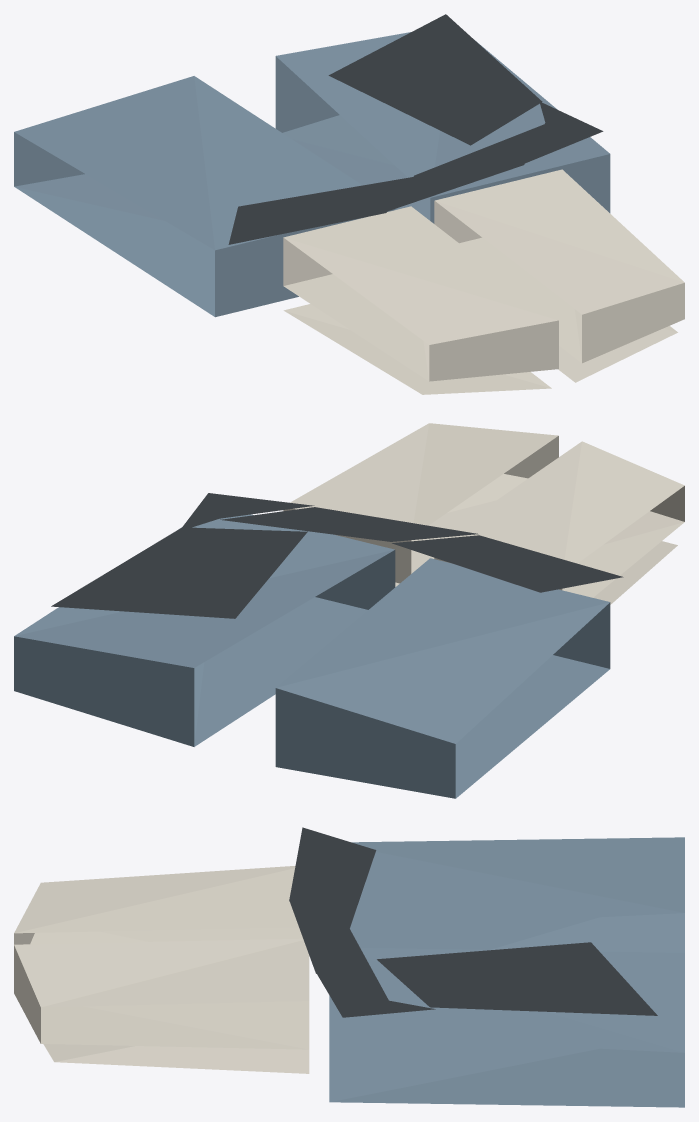
File: aster-fold-culotte.obj
3 views of the same model, one above another, from view 1: azimuth 30°, elevation 25°; view 2: azimuth 150°, elevation 25°; view 3: azimuth 270°, elevation 25° (orthographic).
Visible parts, largest first — view 1: top_front_L, culotte_front_L, top_front_R, culotte_back_L, pleat_flap_R, culotte_front_R, culotte_back_R, fold_yoke_A, top_back_L, fold_yoke_B, fold_yoke_C, top_back_R; view 2: culotte_front_L, culotte_back_R, culotte_back_L, top_front_L, top_front_R, culotte_front_R, pleat_flap_R, fold_yoke_A, fold_yoke_B, fold_yoke_C, top_back_L; view 3: top_front_R, culotte_front_L, culotte_back_R, top_front_L, culotte_front_R, pleat_flap_R, culotte_back_L, top_back_R, fold_yoke_A, fold_yoke_B, fold_yoke_C.
Boxes of the visible parts, x1=… form: top_front_L: x1=283, y1=206, x2=558, y2=381; culotte_front_L: x1=14, y1=76, x2=362, y2=250; top_front_R: x1=434, y1=169, x2=684, y2=363; culotte_back_L: x1=14, y1=132, x2=395, y2=317; pleat_flap_R: x1=328, y1=14, x2=542, y2=145; culotte_front_R: x1=276, y1=32, x2=609, y2=197; culotte_back_R: x1=275, y1=56, x2=610, y2=223; fold_yoke_A: x1=228, y1=177, x2=412, y2=244; top_back_L: x1=283, y1=304, x2=551, y2=394; fold_yoke_B: x1=387, y1=124, x2=544, y2=211; fold_yoke_C: x1=524, y1=102, x2=603, y2=163; top_back_R: x1=558, y1=326, x2=677, y2=382; culotte_front_L: x1=276, y1=558, x2=609, y2=743; culotte_back_R: x1=14, y1=550, x2=395, y2=746; culotte_back_L: x1=275, y1=602, x2=610, y2=798; top_front_L: x1=434, y1=441, x2=684, y2=597; top_front_R: x1=283, y1=423, x2=558, y2=583; culotte_front_R: x1=14, y1=514, x2=394, y2=667; pleat_flap_R: x1=51, y1=527, x2=307, y2=618; fold_yoke_A: x1=392, y1=535, x2=623, y2=592; fold_yoke_B: x1=220, y1=507, x2=478, y2=541; fold_yoke_C: x1=182, y1=493, x2=314, y2=527; top_back_L: x1=593, y1=541, x2=677, y2=604; top_front_R: x1=14, y1=938, x2=309, y2=1049; culotte_front_L: x1=350, y1=837, x2=684, y2=929; culotte_back_R: x1=329, y1=1035, x2=684, y2=1107; top_front_L: x1=14, y1=865, x2=302, y2=944; culotte_front_R: x1=329, y1=948, x2=684, y2=1052; pleat_flap_R: x1=377, y1=942, x2=657, y2=1015; culotte_back_L: x1=350, y1=913, x2=684, y2=952; top_back_R: x1=43, y1=1044, x2=309, y2=1073; fold_yoke_A: x1=289, y1=827, x2=376, y2=928; fold_yoke_B: x1=289, y1=900, x2=388, y2=1000; fold_yoke_C: x1=316, y1=972, x2=435, y2=1017.
Size of the model in its own units: 0.76 by 0.152 by 1.
